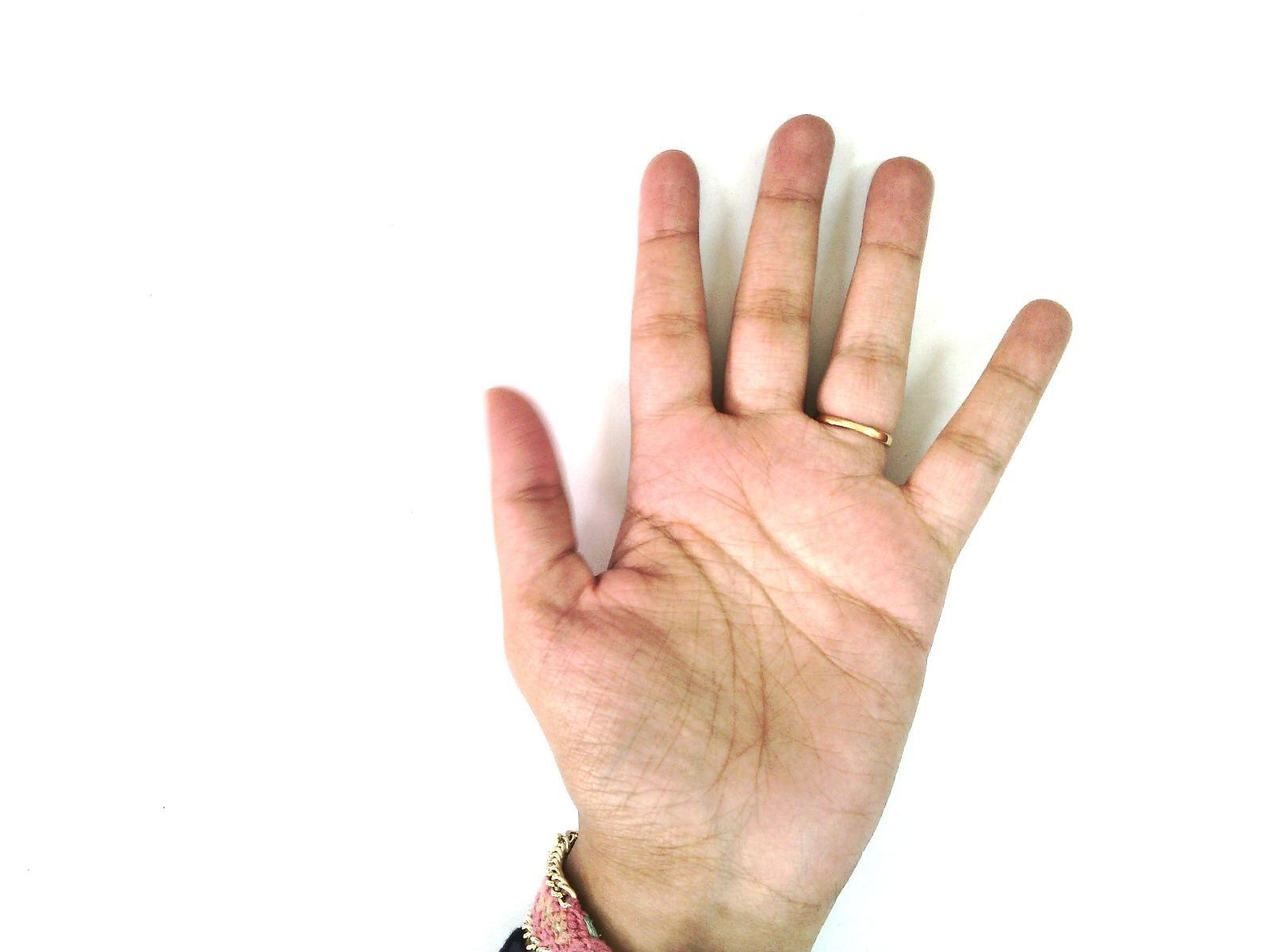open_palm: (481, 113, 1073, 908)
